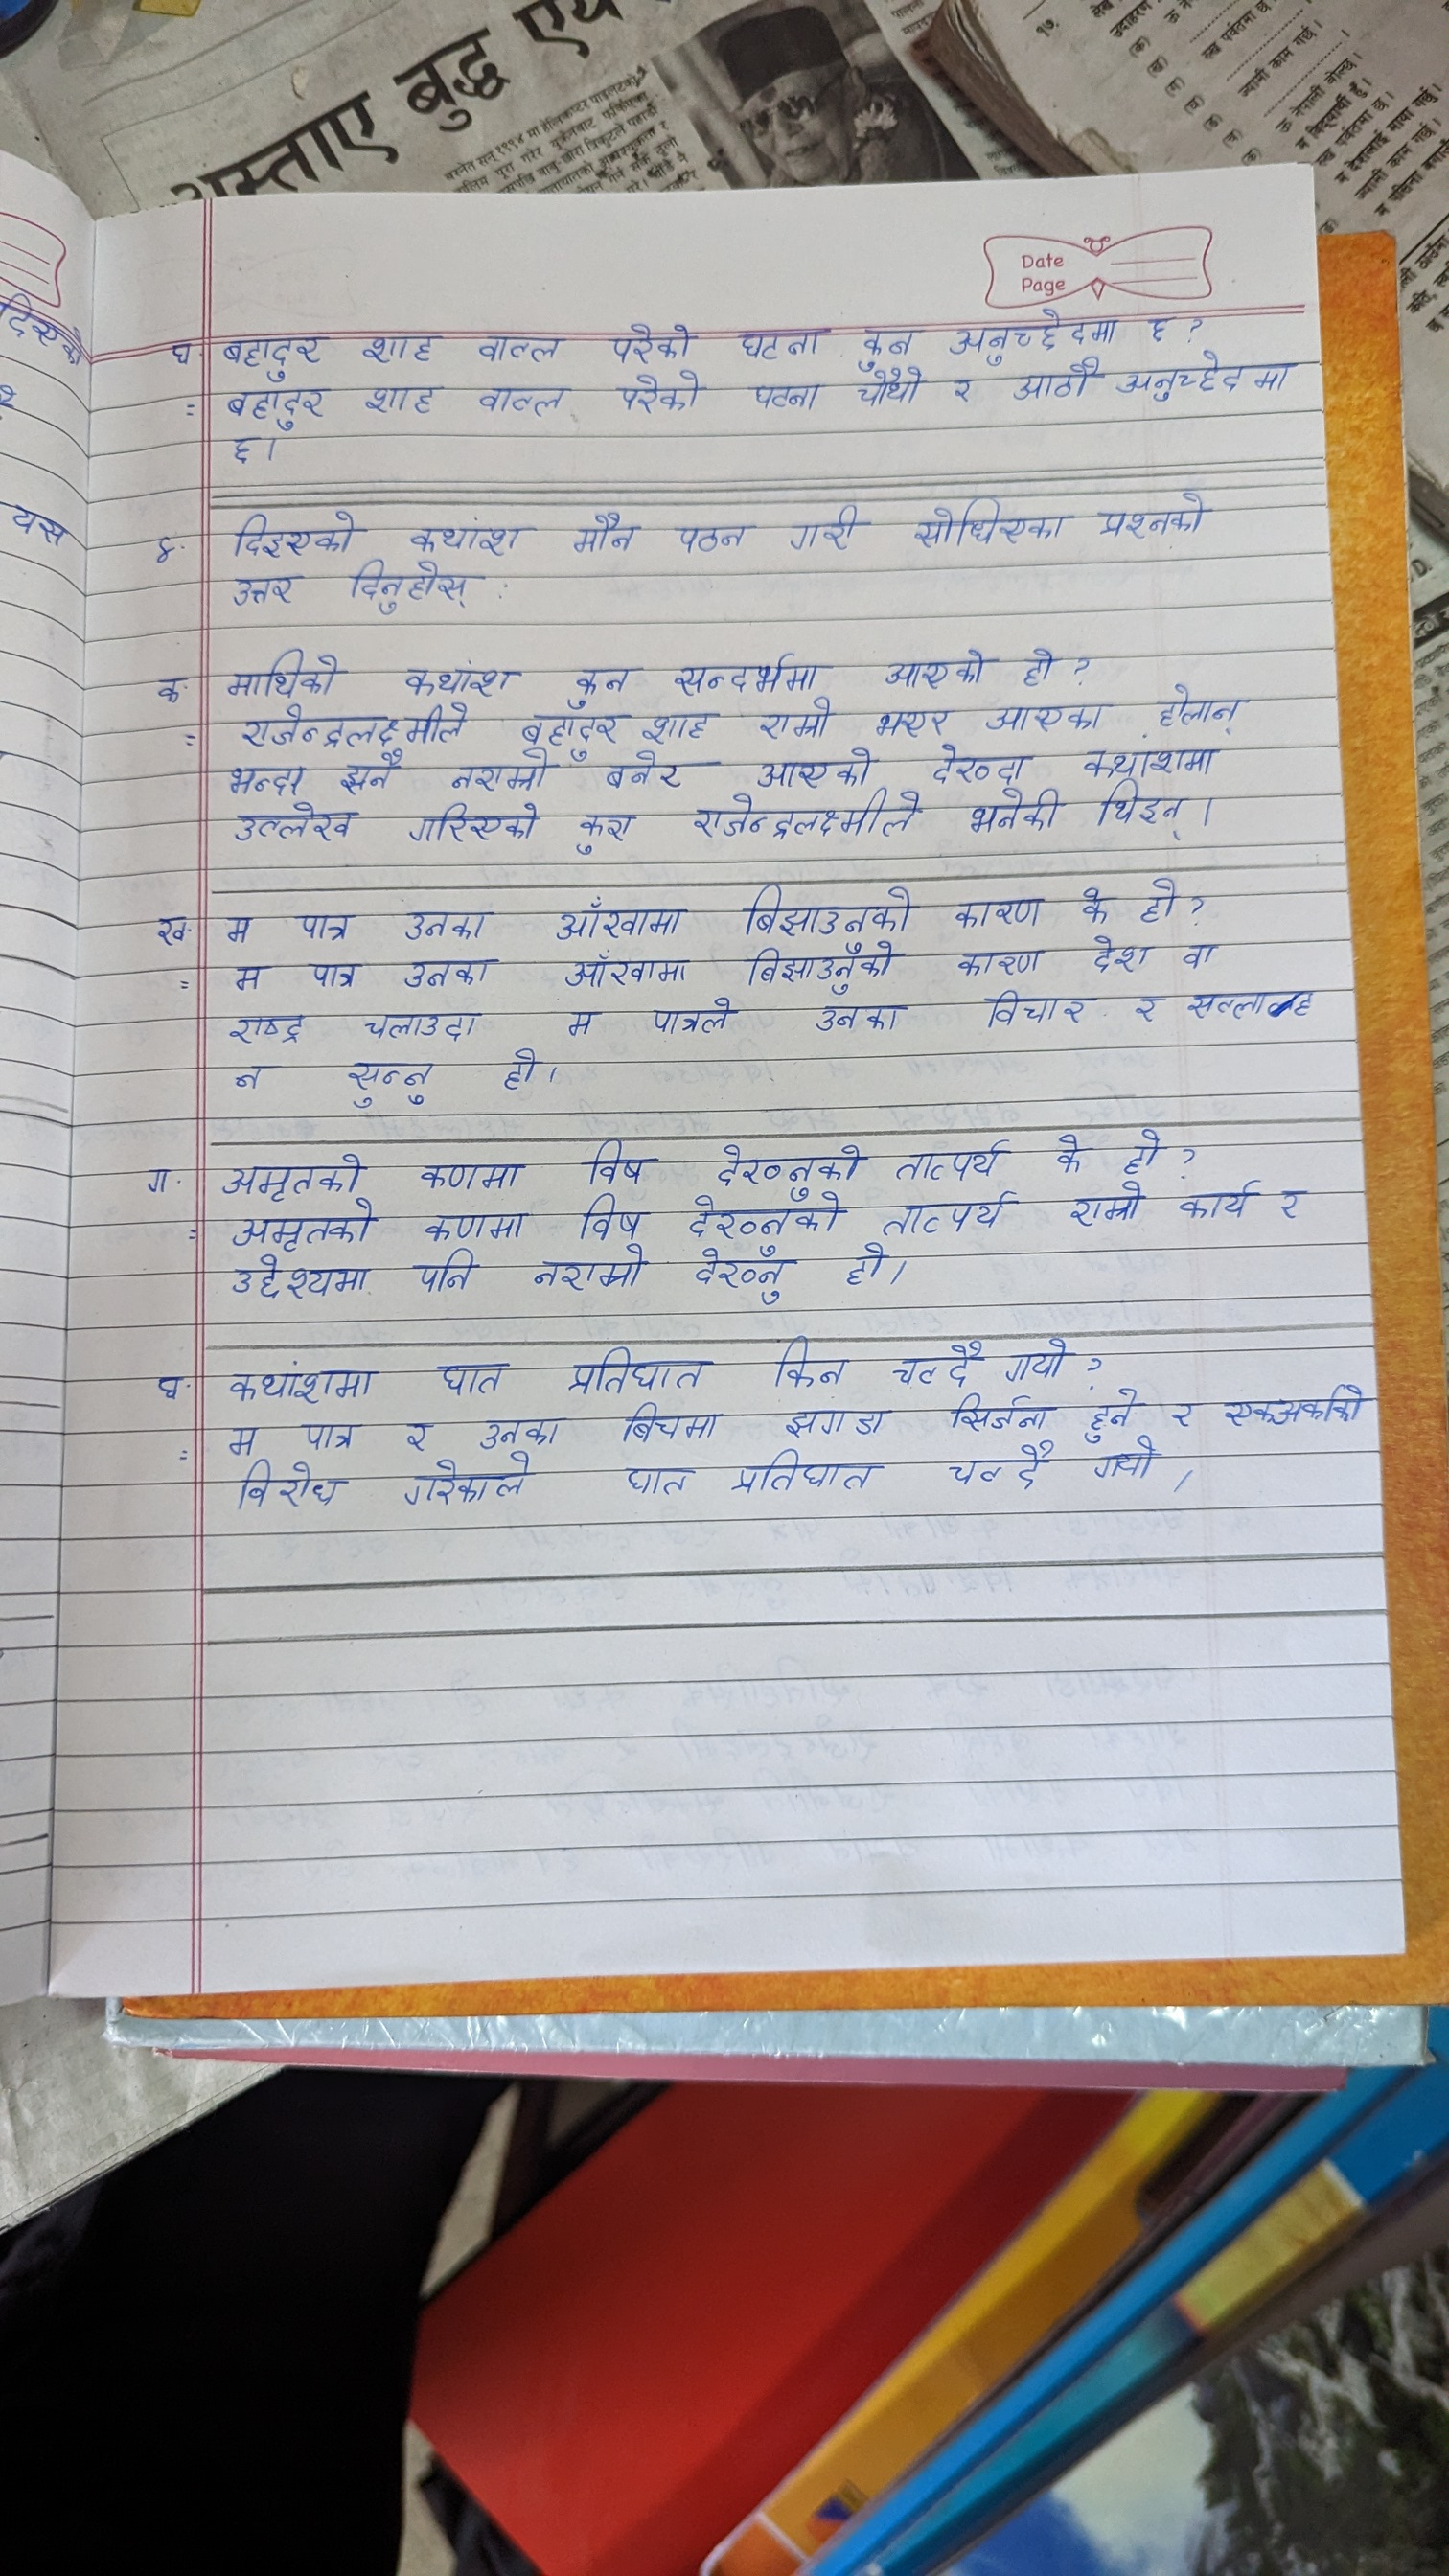text: (685, 793, 948, 837), (230, 701, 471, 747), (1118, 354, 1297, 407), (734, 885, 916, 934), (740, 939, 904, 994), (943, 303, 1122, 352), (1090, 492, 1235, 552), (731, 1445, 879, 1502), (345, 559, 487, 617), (909, 497, 1063, 550), (704, 1143, 876, 1189), (228, 1201, 379, 1253), (400, 1458, 538, 1513), (221, 1361, 377, 1408), (561, 1345, 709, 1394), (1217, 1380, 1364, 1430), (672, 648, 821, 695), (941, 1440, 1062, 1497), (683, 1194, 842, 1237), (219, 1152, 361, 1198), (232, 1460, 354, 1513), (547, 895, 692, 939), (219, 644, 340, 697), (1093, 778, 1192, 842), (879, 1191, 1019, 1235), (409, 798, 538, 846), (232, 1256, 375, 1299), (697, 1246, 796, 1306), (226, 511, 359, 556), (888, 1136, 1012, 1182), (534, 1246, 649, 1295), (333, 1054, 439, 1106), (966, 786, 1070, 837), (1182, 985, 1322, 1023), (1074, 741, 1228, 775), (1180, 1171, 1260, 1235), (359, 1007, 495, 1044), (234, 800, 352, 842), (750, 750, 885, 787), (775, 504, 863, 559), (874, 642, 984, 686), (407, 515, 525, 556), (612, 1399, 725, 1442), (561, 950, 690, 987), (218, 336, 329, 379), (1010, 357, 1102, 409), (395, 658, 515, 697), (982, 989, 1090, 1031), (731, 318, 826, 366), (938, 1392, 1051, 1431), (886, 1341, 982, 1387), (223, 387, 331, 428), (922, 743, 1030, 784), (446, 750, 548, 793), (416, 1159, 534, 1194), (602, 750, 702, 791), (1065, 1184, 1150, 1231), (763, 1341, 849, 1387), (570, 1192, 649, 1242), (1150, 683, 1242, 725), (471, 377, 570, 416), (602, 322, 692, 364), (421, 1208, 529, 1244), (648, 996, 738, 1037), (610, 373, 704, 412), (998, 1336, 1074, 1384), (741, 377, 833, 416), (948, 895, 1047, 931), (564, 511, 640, 557), (563, 662, 639, 708), (469, 324, 563, 361), (672, 515, 754, 557), (430, 1355, 508, 1399), (782, 1408, 890, 1440), (400, 906, 492, 943), (580, 1136, 655, 1182), (950, 948, 1051, 982), (856, 318, 922, 370), (409, 1246, 481, 1292), (982, 706, 1108, 732), (621, 1456, 695, 1500), (398, 952, 494, 985), (1095, 1445, 1168, 1490), (363, 382, 449, 418), (334, 748, 403, 793), (359, 327, 441, 364), (761, 699, 832, 741), (1085, 1382, 1136, 1440), (568, 807, 630, 855), (520, 715, 625, 743), (865, 706, 957, 738), (1079, 934, 1154, 973), (471, 1414, 561, 1445), (225, 761, 304, 796), (1115, 1120, 1164, 1173), (232, 570, 301, 607), (812, 1003, 902, 1031), (853, 372, 924, 407), (230, 1010, 304, 1044), (640, 709, 713, 743), (290, 909, 366, 941), (847, 1242, 892, 1295), (1016, 640, 1060, 688), (1134, 874, 1177, 922), (504, 1039, 538, 1099), (308, 955, 364, 991), (1072, 879, 1113, 927), (140, 534, 195, 570), (1171, 939, 1235, 970), (301, 1421, 359, 1451), (138, 1157, 179, 1200), (1053, 1129, 1086, 1178), (143, 1361, 186, 1399), (1272, 1180, 1302, 1231), (228, 1062, 274, 1093), (223, 904, 257, 947), (223, 1424, 265, 1458), (1168, 1387, 1196, 1433), (152, 671, 188, 704), (156, 913, 189, 948), (402, 1417, 433, 1454), (561, 1008, 600, 1039), (1127, 991, 1161, 1024), (226, 433, 262, 465), (947, 372, 975, 410), (230, 961, 264, 991), (1148, 308, 1177, 343), (170, 341, 195, 370)
